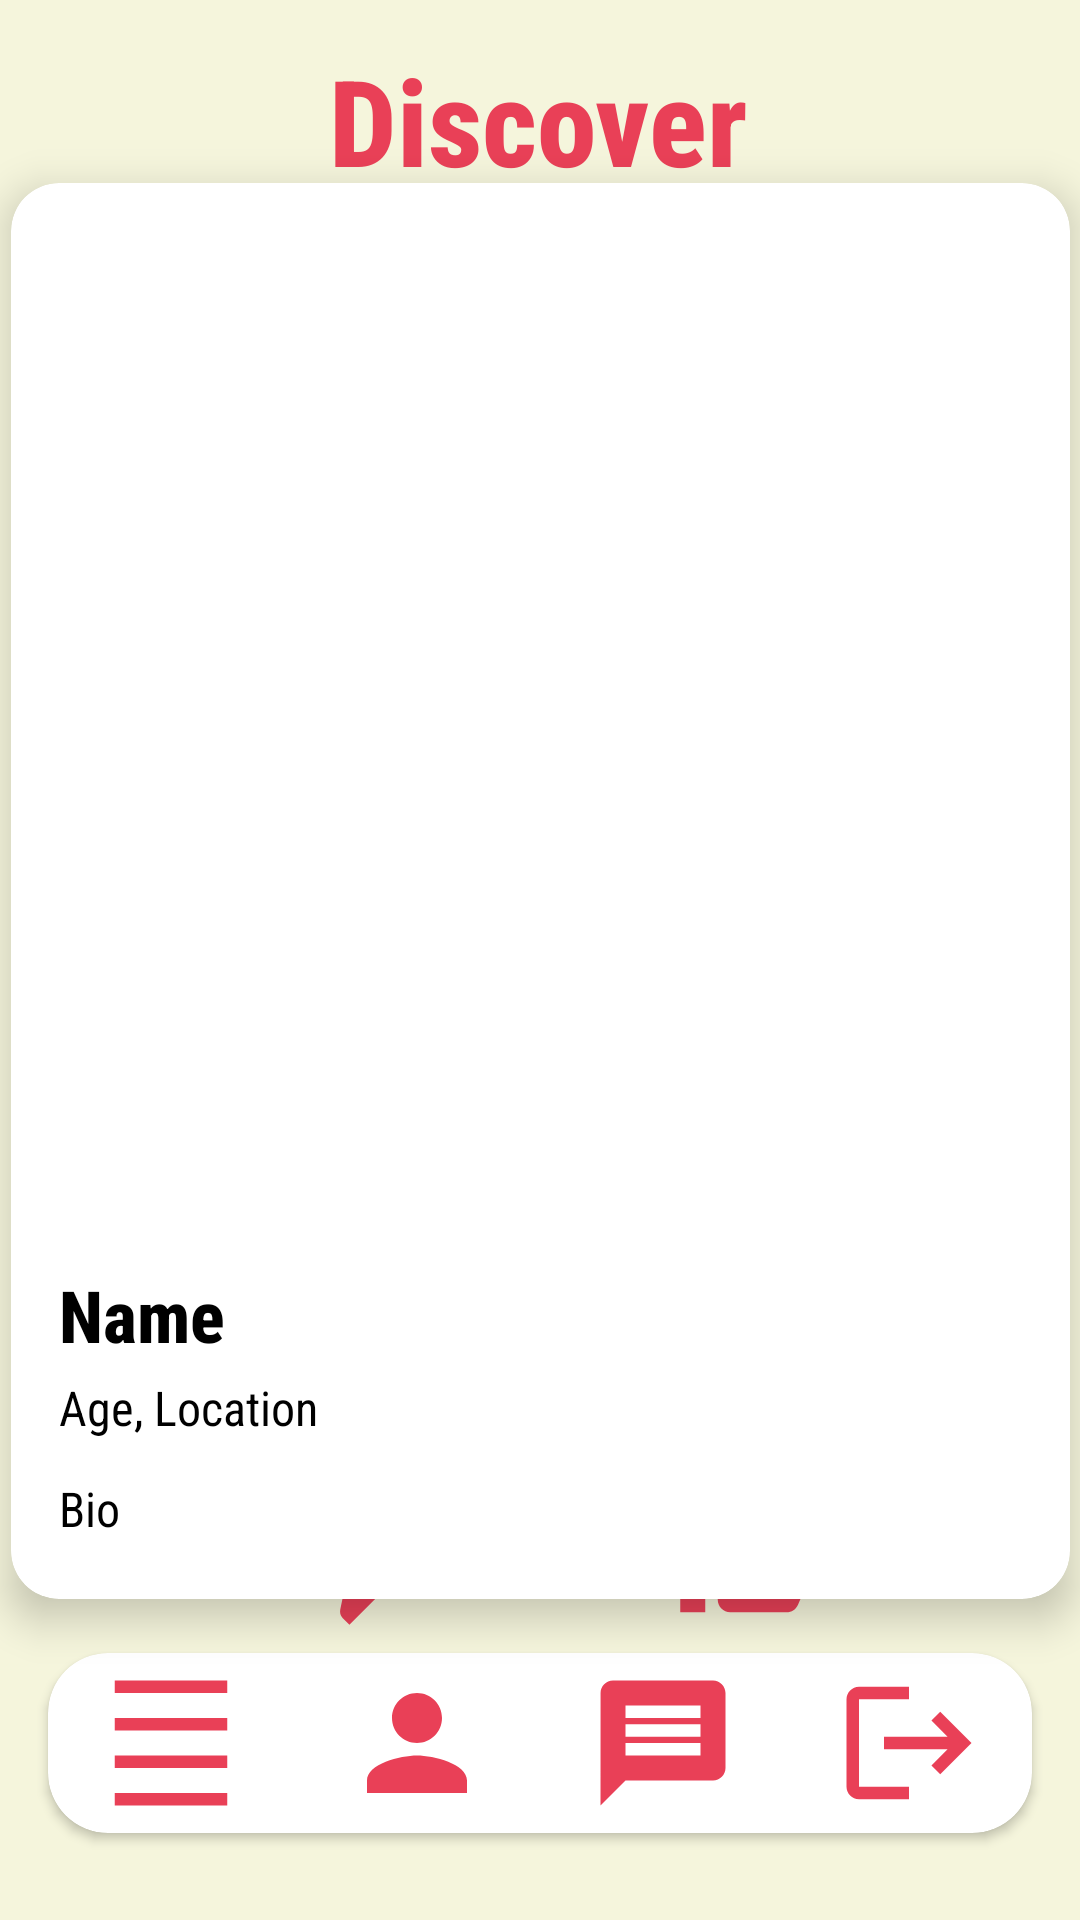

Screen size 1080w x 1920h. Icon name, then its center in pixels as point (x, y):
message: point (663, 1742)
person: point (417, 1743)
